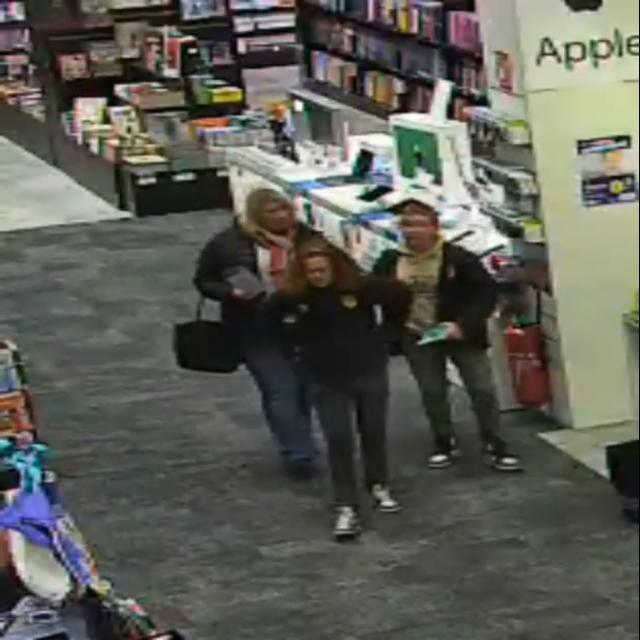article: (219, 265, 266, 294), (416, 325, 447, 346)
bags: (174, 300, 242, 373)
hands: (441, 323, 463, 340), (230, 289, 253, 301)
person: (270, 239, 410, 539), (374, 201, 520, 471), (195, 188, 316, 477)
